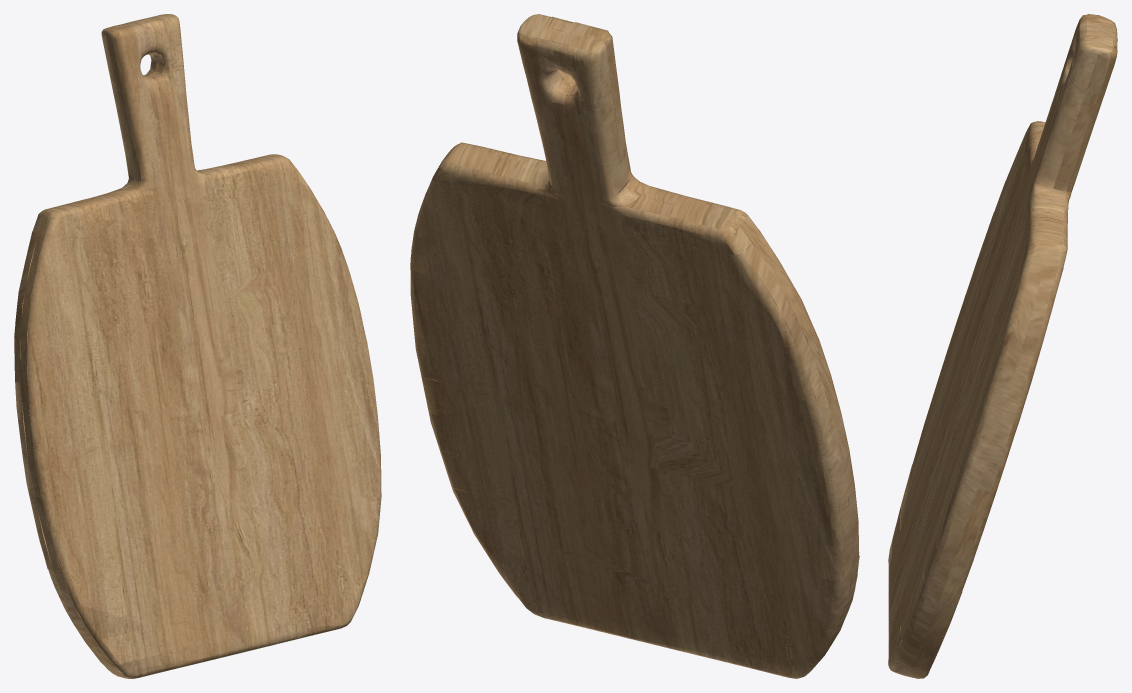
The model's file is cutting_board.glb.
3 renders of one model, left to right at view 1: azimuth 30°, elevation 25°; view 2: azimuth 150°, elevation 25°; view 3: azimuth 270°, elevation 25°, orthographic. The views are drawn at different scales.
Visible parts, largest first — view 1: CuttingBoard; view 2: CuttingBoard; view 3: CuttingBoard.
Part boxes in pixels (x1,y1,x2,y2): CuttingBoard: (14,14,381,678); CuttingBoard: (410,14,859,678); CuttingBoard: (888,14,1117,678).
Size of the model in its own units: 0.1618 by 0.2589 by 0.0902.
1 material, 1 textured.
